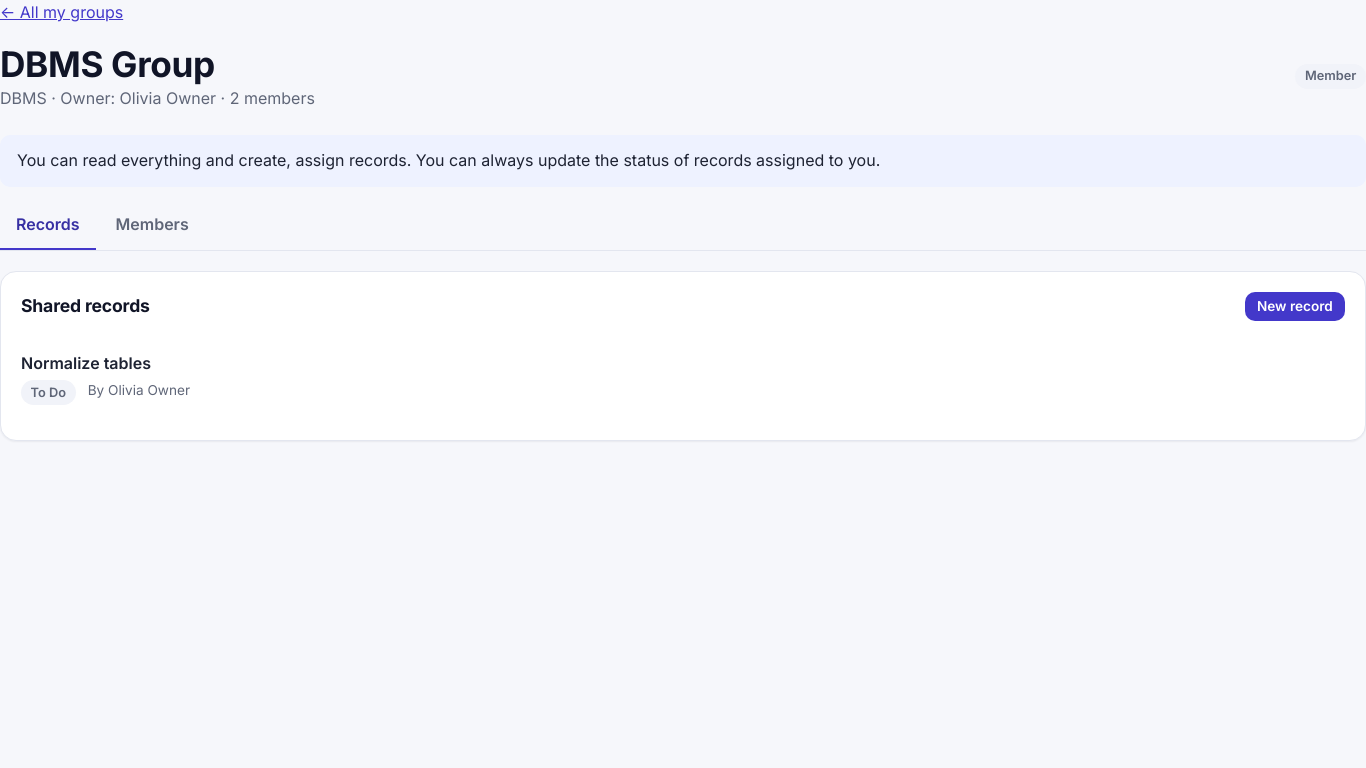
Test: GroupDetailPage permissions › member with assign permission sees the assignee picker
Click the button "New record": (1295, 306) [1245,292,1345,321]
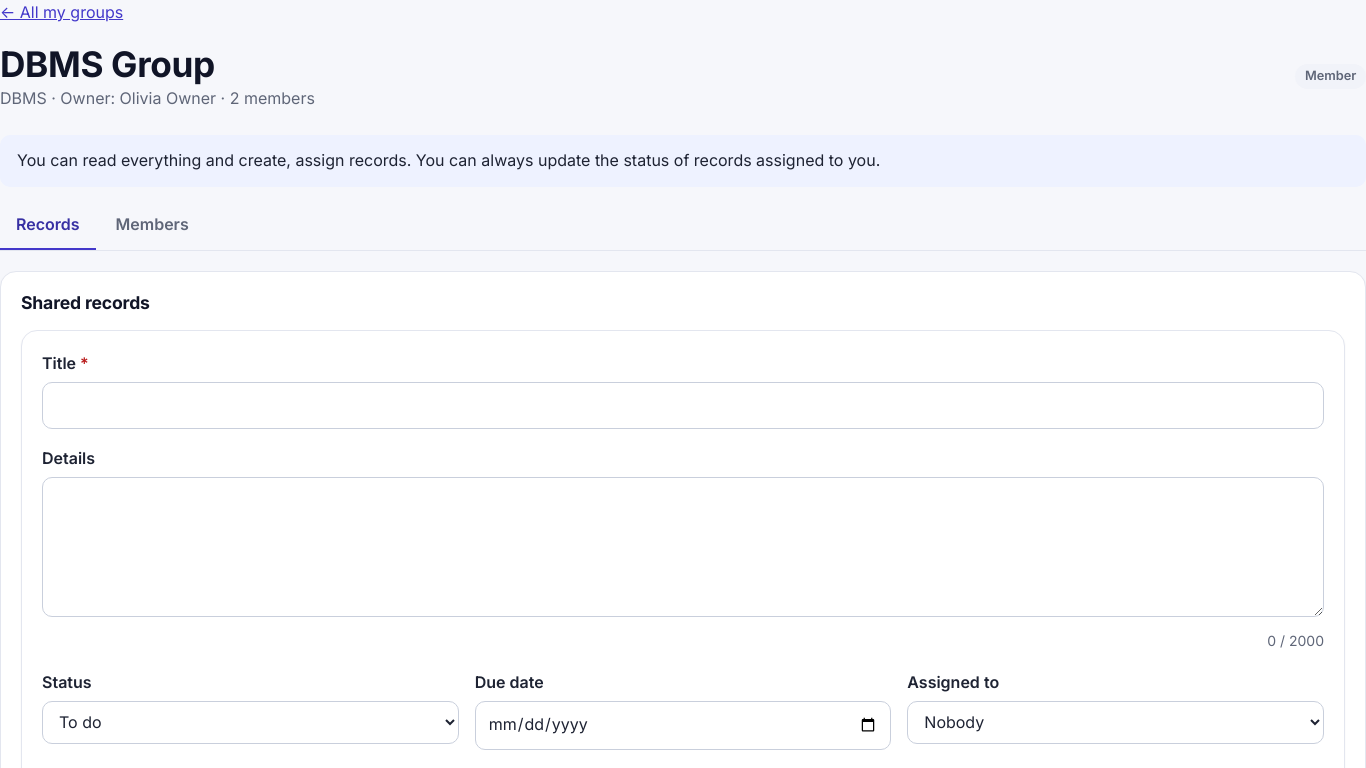
Now the dropdown labelled "Assigned to" is shown, box [907,701,1324,744]
